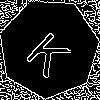K: (24, 23, 79, 79)
